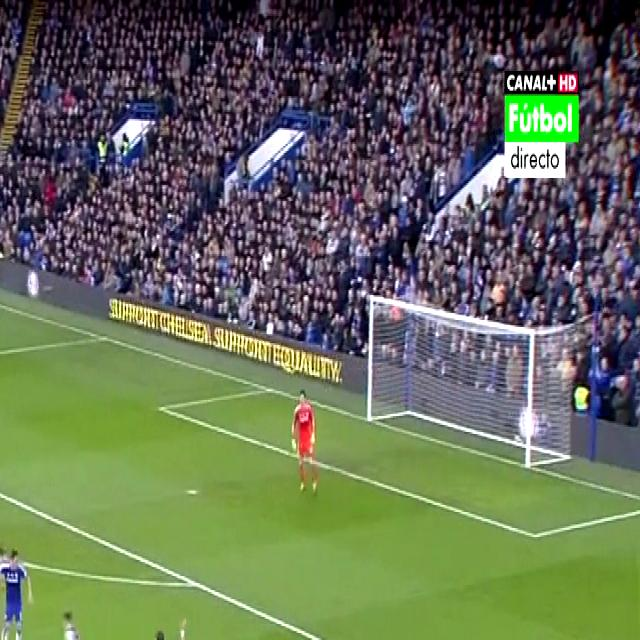ball: (51, 618, 77, 640)
goalkeeper: (276, 373, 336, 518)
soccer-player: (0, 544, 36, 640), (140, 608, 195, 640), (51, 601, 94, 640), (0, 537, 5, 640)
